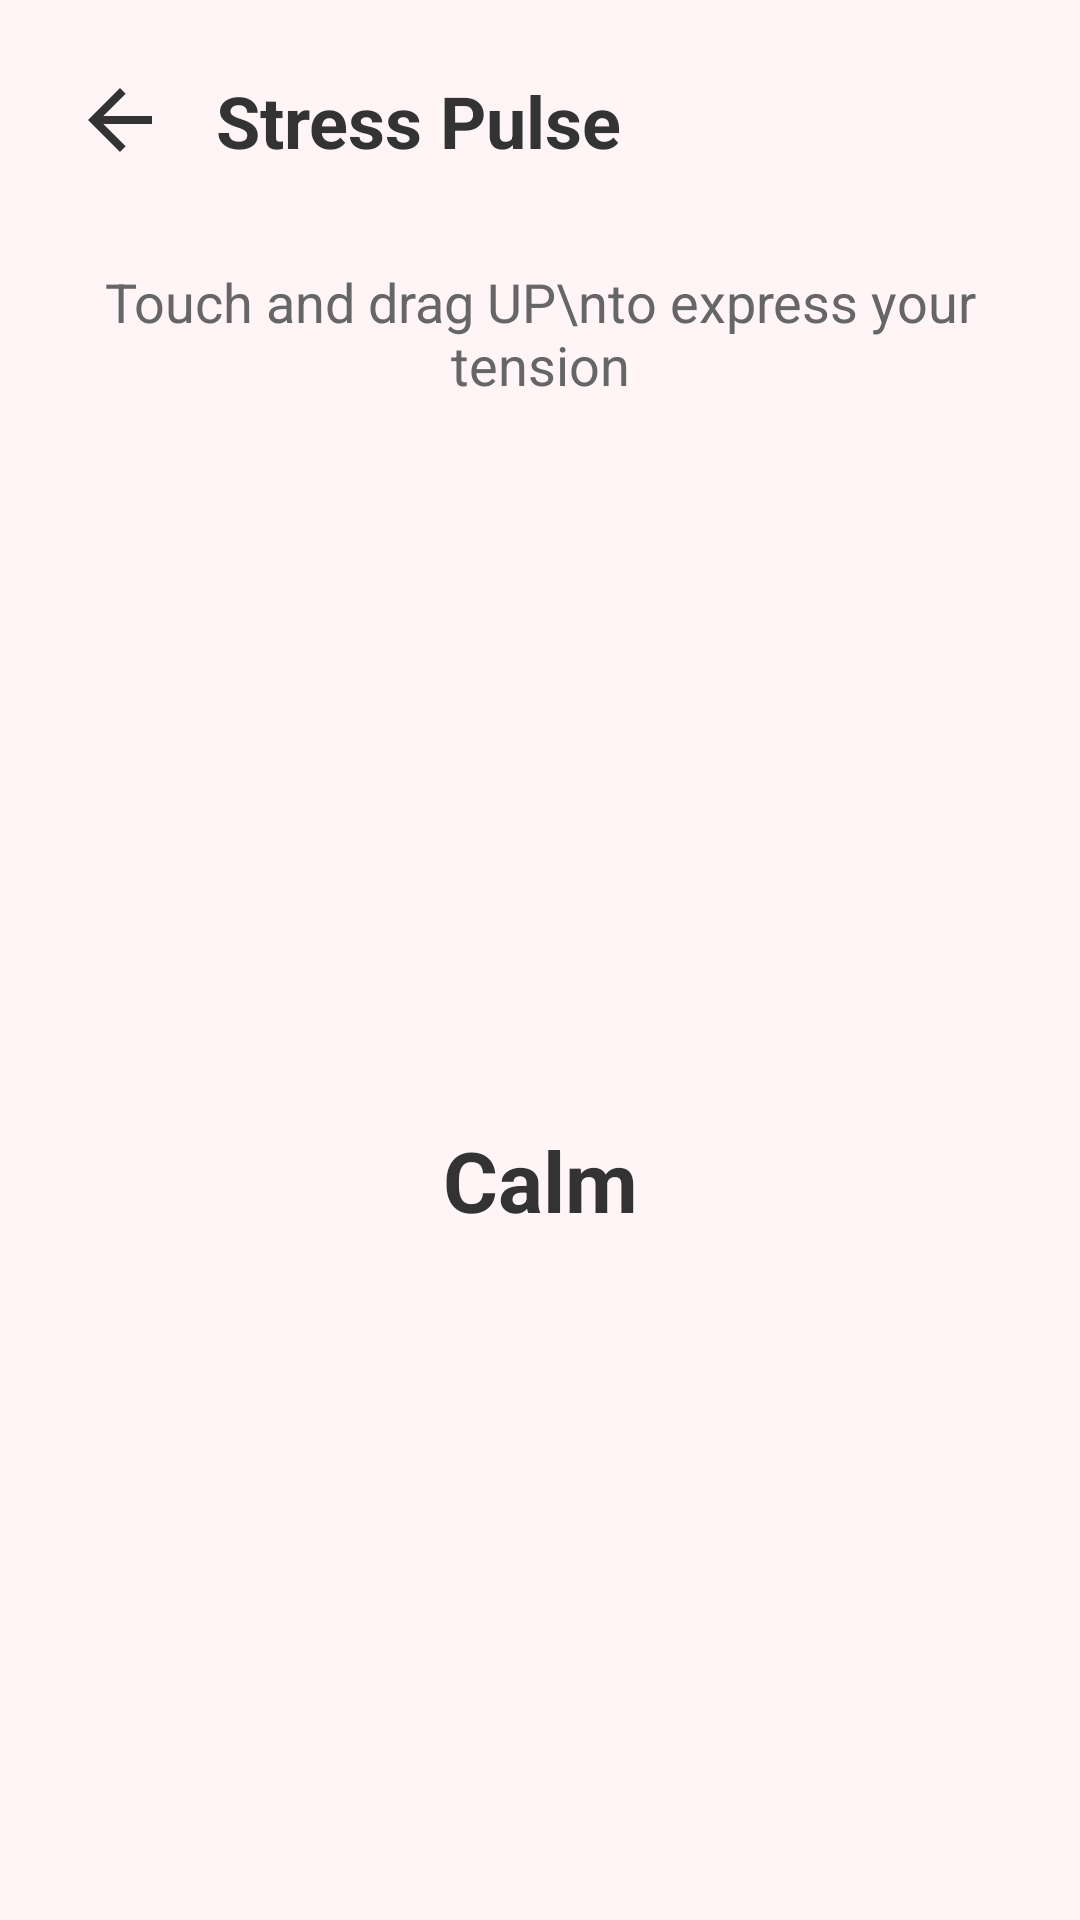

Where icons sit on this 1080w x 1920h app screen, as {"left": x1, "top": y1, "right": x2, "bottom": y2}:
arrow back: {"left": 88, "top": 88, "right": 152, "bottom": 152}
